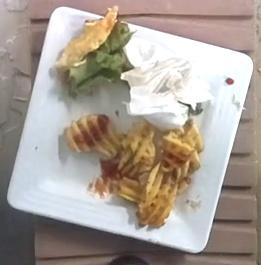burger: (54, 6, 132, 95)
fries: (65, 113, 201, 225)
